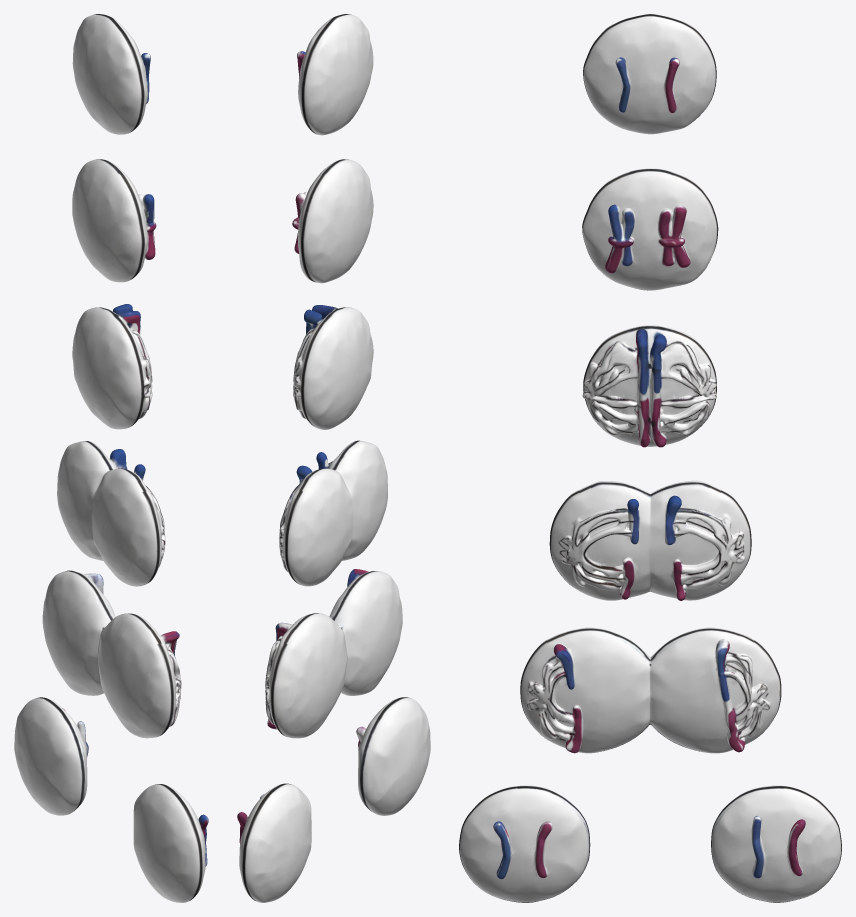
File: mitosis.glb
3 renders of one model, left to right at view 1: azimuth 30°, elevation 25°; view 2: azimuth 150°, elevation 25°; view 3: azimuth 270°, elevation 25°, orthographic. The views are drawn at different scales.
Visible parts, largest first — view 1: tripo_node_edc55b6f-a21a-4238-9e7d-c6355204c3c5; view 2: tripo_node_edc55b6f-a21a-4238-9e7d-c6355204c3c5; view 3: tripo_node_edc55b6f-a21a-4238-9e7d-c6355204c3c5.
Part boxes in pixels (<box>): tripo_node_edc55b6f-a21a-4238-9e7d-c6355204c3c5: <box>14,14,208,902</box>; tripo_node_edc55b6f-a21a-4238-9e7d-c6355204c3c5: <box>237,14,430,902</box>; tripo_node_edc55b6f-a21a-4238-9e7d-c6355204c3c5: <box>459,14,841,902</box>.
Size of the model in its own units: 0.065 by 1 by 0.3908.
Materials: 1 (1 with a texture image).
